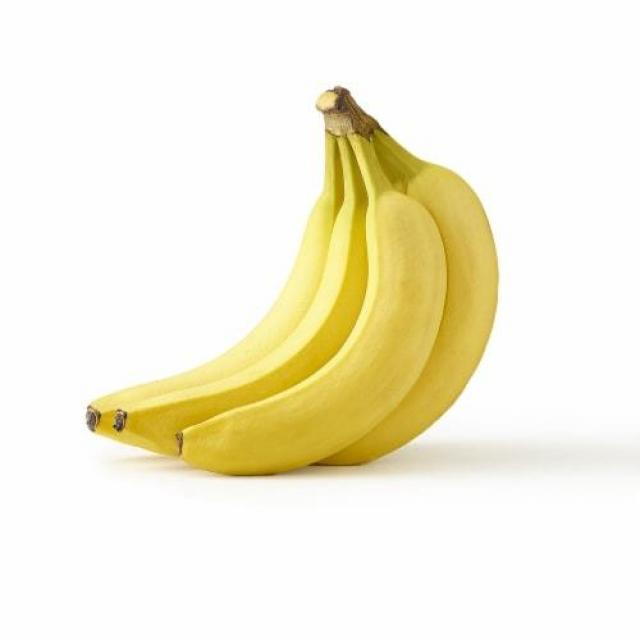banana: (72, 77, 506, 480)
